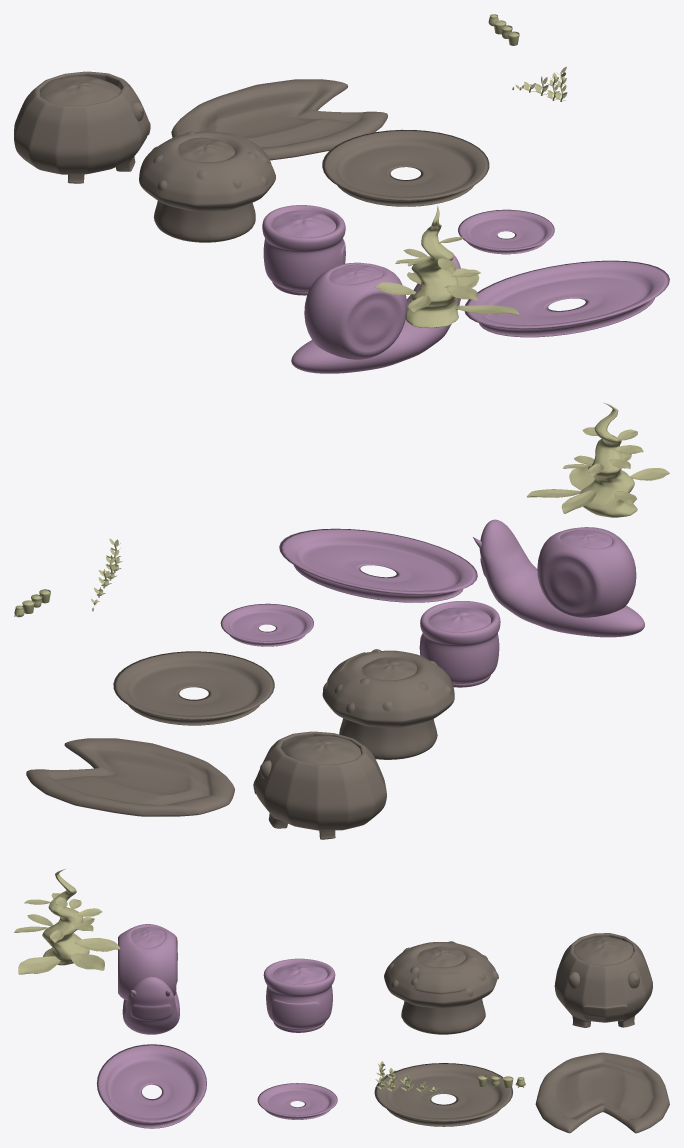
File: No_Texture_Rework.fbx
3 views of the same model, one above another, from view 1: azimuth 30°, elevation 25°; view 2: azimuth 150°, elevation 25°; view 3: azimuth 270°, elevation 25° (orthographic). The views are drawn at different scales.
Parts seen in each view (by area): view 1: pTorus5, polySurface61, pDisc22, pTorus4, polySurface68, polySurface105, pCone2, pTorus1, polySurface106, pTorus3, polySurface66, polySurface97 (+2 smaller); view 2: pDisc22, pTorus5, polySurface61, pTorus4, polySurface68, polySurface105, polySurface106, pCone2, pTorus1, pTorus3, polySurface66, polySurface97 (+2 smaller); view 3: pDisc22, pTorus5, polySurface61, pTorus4, polySurface68, pCone2, pTorus1, polySurface105, polySurface106, pTorus3, polySurface66, polySurface97 (+2 smaller).
Part boxes in pixels (x1=…): pTorus5: x1=464, y1=260, x2=669, y2=337; polySurface61: x1=139, y1=131, x2=275, y2=242; pDisc22: x1=171, y1=79, x2=387, y2=160; pTorus4: x1=322, y1=129, x2=489, y2=206; polySurface68: x1=14, y1=71, x2=150, y2=183; polySurface105: x1=304, y1=262, x2=407, y2=359; pCone2: x1=374, y1=205, x2=519, y2=328; pTorus1: x1=262, y1=205, x2=345, y2=295; polySurface106: x1=291, y1=255, x2=460, y2=373; pTorus3: x1=458, y1=209, x2=554, y2=254; polySurface66: x1=40, y1=76, x2=121, y2=105; polySurface97: x1=272, y1=210, x2=336, y2=237; pDisc22: x1=26, y1=738, x2=234, y2=816; pTorus5: x1=279, y1=528, x2=477, y2=602; polySurface61: x1=322, y1=650, x2=454, y2=759; pTorus4: x1=113, y1=651, x2=274, y2=725; polySurface68: x1=253, y1=731, x2=386, y2=839; polySurface105: x1=537, y1=527, x2=636, y2=617; polySurface106: x1=479, y1=519, x2=644, y2=637; pCone2: x1=527, y1=402, x2=669, y2=517; pTorus1: x1=419, y1=601, x2=500, y2=687; pTorus3: x1=220, y1=603, x2=313, y2=646; polySurface66: x1=282, y1=735, x2=360, y2=764; polySurface97: x1=429, y1=607, x2=491, y2=632; pDisc22: x1=535, y1=1052, x2=669, y2=1133; pTorus5: x1=96, y1=1044, x2=206, y2=1128; polySurface61: x1=384, y1=942, x2=497, y2=1034; pTorus4: x1=374, y1=1063, x2=513, y2=1126; polySurface68: x1=554, y1=933, x2=652, y2=1027; pCone2: x1=14, y1=869, x2=120, y2=974; pTorus1: x1=263, y1=958, x2=335, y2=1032; polySurface105: x1=118, y1=924, x2=177, y2=999; polySurface106: x1=122, y1=976, x2=179, y2=1034; pTorus3: x1=257, y1=1083, x2=337, y2=1119; polySurface66: x1=574, y1=936, x2=633, y2=965; polySurface97: x1=272, y1=963, x2=327, y2=984.
Size of the model in its own units: 6.72 by 2.96 by 10.76.
